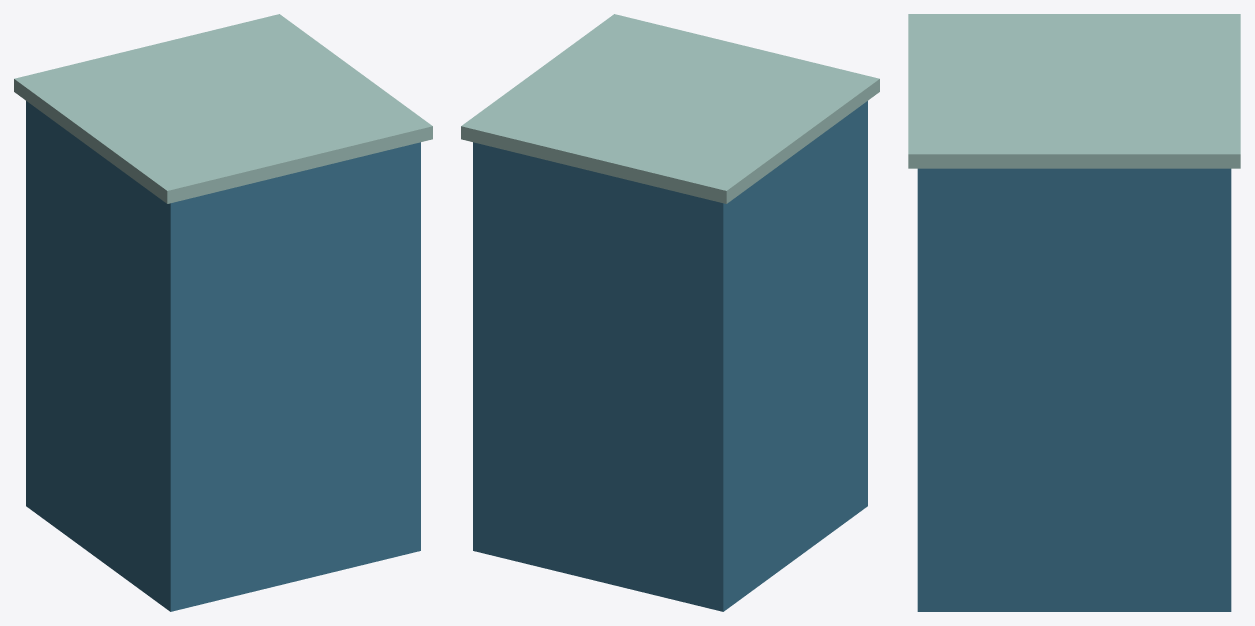
File: city_block.glb
3 views of the same model, side by side, from view 1: azimuth 30°, elevation 25°; view 2: azimuth 150°, elevation 25°; view 3: azimuth 270°, elevation 25° (orthographic). The views are drawn at different scales.
Visible parts, largest first — view 1: city_block; view 2: city_block; view 3: city_block.
Part boxes in pixels (x1=…): city_block: x1=14, y1=14, x2=432, y2=611; city_block: x1=461, y1=14, x2=879, y2=611; city_block: x1=908, y1=14, x2=1240, y2=611.
Bounding box in the file's own units: 5.3 × 8.12 × 5.3.
